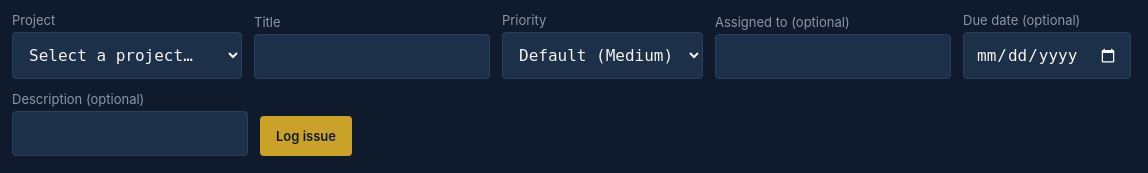
Test case: CreateIssueForm › shows the action-returned error message on failure
Select "PRJ-001 — The Shore" in the dropdown labelled "Project": (127, 56) [12,32,242,79]
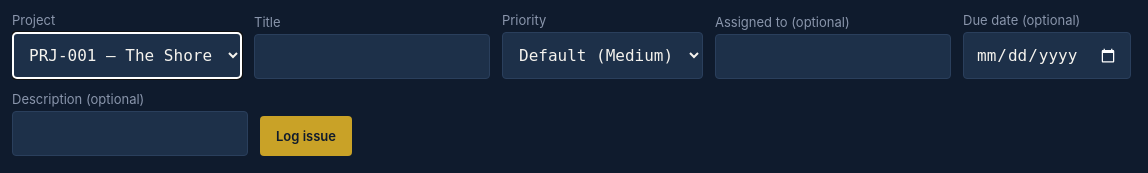
In the field labelled "Title": (372, 56) [254,34,490,79], type "Site access blocked by neighboring plot dispute"
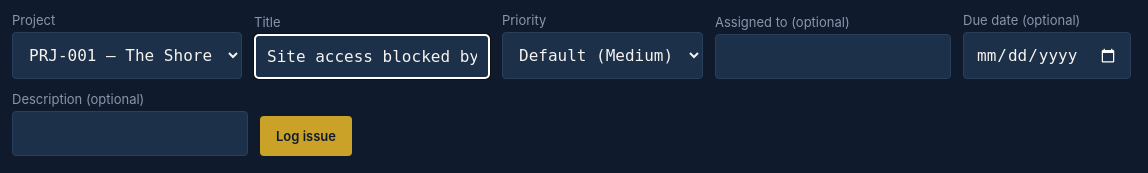
Click the button "Log issue": (306, 136) [260,116,352,156]
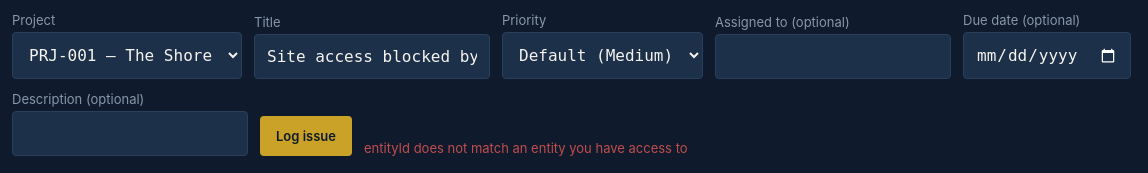
Now the text "entityId does not match an entity you have access to" is shown, box [364,140,688,156]
